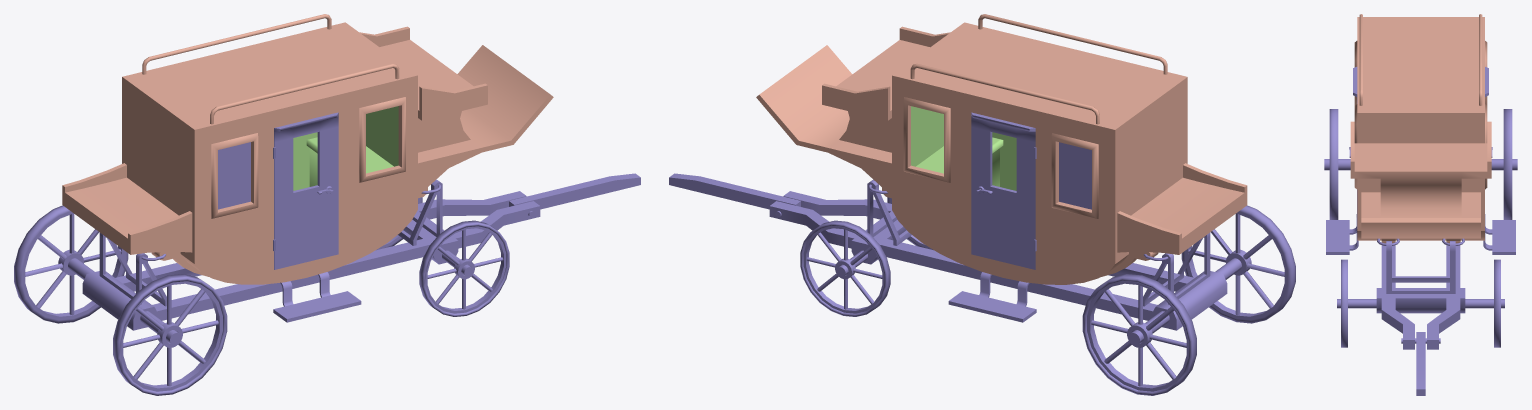
The model's file is wagon_text.fbx.
The picture shows the model from 3 angles, left to right: view 1: azimuth 30°, elevation 25°; view 2: azimuth 150°, elevation 25°; view 3: azimuth 270°, elevation 25°; orthographic projection. The views are drawn at different scales.
Visible parts, largest first — view 1: wagon, frame, wheels; view 2: wagon, frame, wheels; view 3: wagon, frame, wheels.
Boxes of the visible parts, <box> form: wagon: <box>62,14,553,322</box>; frame: <box>68,173,640,345</box>; wheels: <box>14,197,509,395</box>; wagon: <box>756,14,1247,322</box>; frame: <box>669,173,1241,345</box>; wheels: <box>800,197,1295,395</box>; wagon: <box>1326,14,1515,254</box>; frame: <box>1324,159,1517,395</box>; wheels: <box>1329,109,1512,347</box>.
Size of the model in its own units: 13.11 by 5.68 by 4.37.
